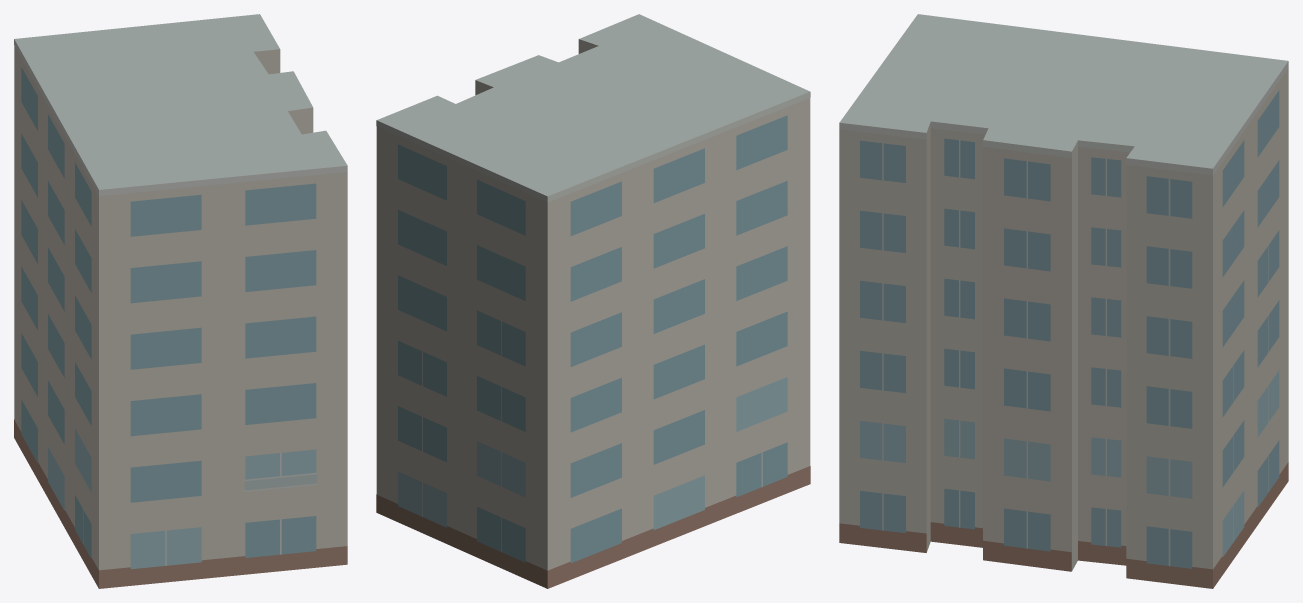
File: survey-upis-32868105.glb
The picture shows the model from 3 angles, left to right: view 1: azimuth 30°, elevation 25°; view 2: azimuth 150°, elevation 25°; view 3: azimuth 270°, elevation 25°; orthographic projection. The views are drawn at different scales.
Visible parts, largest first — view 1: survey-upis-32868105.tmp; view 2: survey-upis-32868105.tmp; view 3: survey-upis-32868105.tmp.
Part boxes in pixels (<box>): survey-upis-32868105.tmp: <box>14,14,347,588</box>; survey-upis-32868105.tmp: <box>376,14,810,588</box>; survey-upis-32868105.tmp: <box>839,14,1288,588</box>.
Size of the model in its own units: 12.33 by 15.6 by 15.13.
